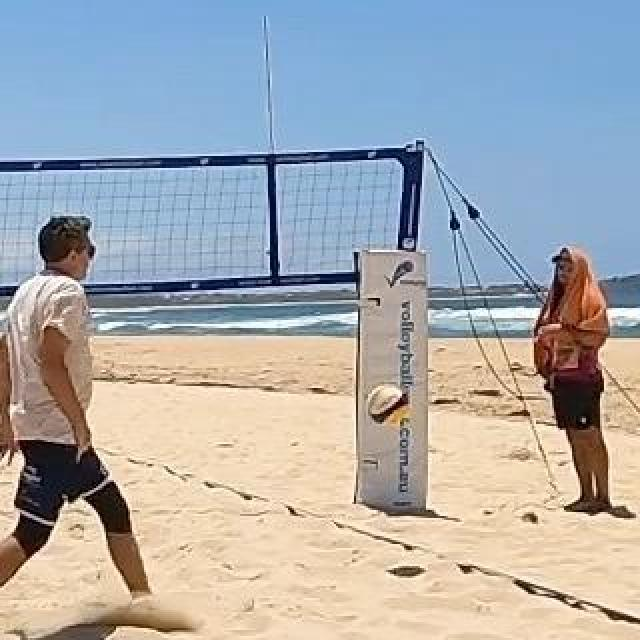volleyball: (369, 384, 409, 426)
